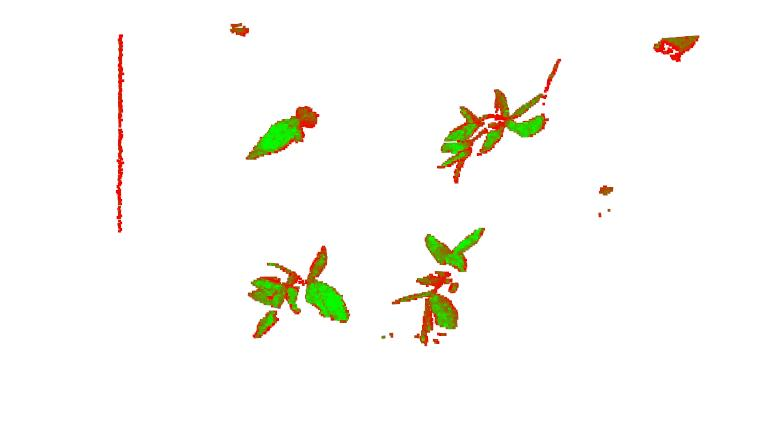mungbean: (398, 215, 498, 345), (433, 79, 555, 179), (236, 247, 351, 340), (243, 91, 327, 165)
